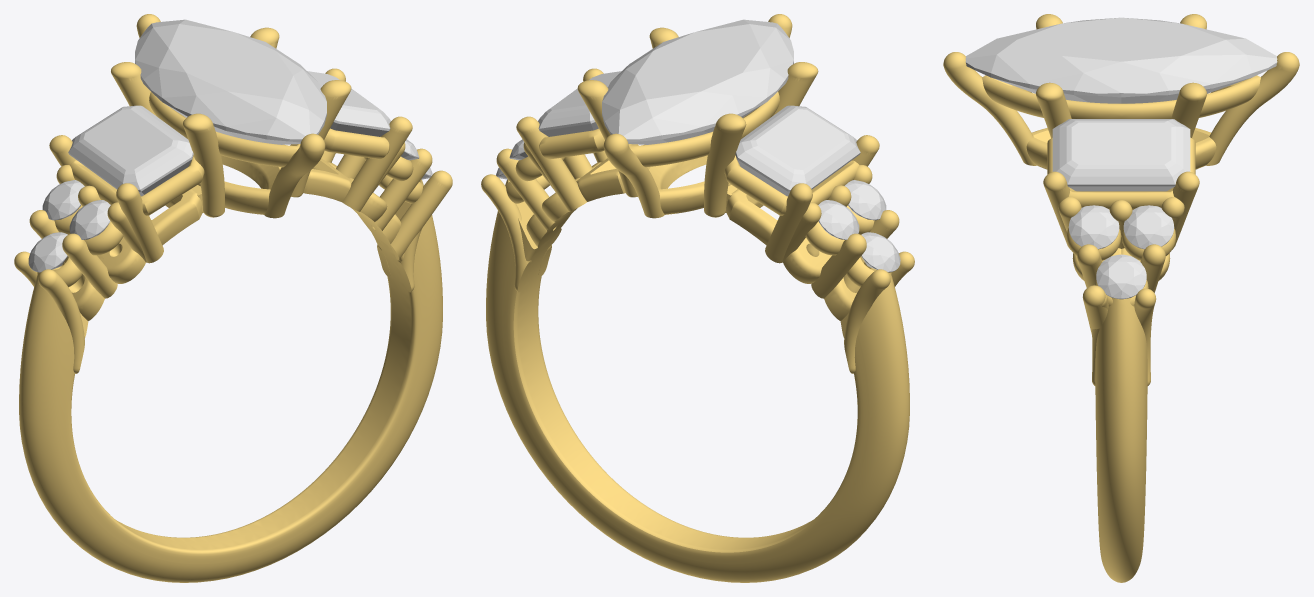
File: JackV3new_blender.glb
3 renders of one model, left to right at view 1: azimuth 30°, elevation 25°; view 2: azimuth 150°, elevation 25°; view 3: azimuth 270°, elevation 25°, orthographic.
Parts seen in each view (by area): view 1: V3 Jack YG for 3d model, Jack dia center for 3d model, Jack dia em for 3d model.001, Jack dia em for 3d model, Jack dia rounds for 3d model.005, Jack dia rounds for 3d model.003, Jack dia rounds for 3d model.004; view 2: V3 Jack YG for 3d model, Jack dia center for 3d model, Jack dia em for 3d model.001, Jack dia em for 3d model, Jack dia rounds for 3d model.003, Jack dia rounds for 3d model.005, Jack dia rounds for 3d model.004; view 3: V3 Jack YG for 3d model, Jack dia center for 3d model, Jack dia em for 3d model, Jack dia rounds for 3d model.001, Jack dia rounds for 3d model, Jack dia rounds for 3d model.002.
Boxes of the visible parts, x1,y1,x2,y2 form: V3 Jack YG for 3d model: (14,14,452,582); Jack dia center for 3d model: (135,19,326,144); Jack dia em for 3d model.001: (68,105,193,196); Jack dia em for 3d model: (307,71,390,136); Jack dia rounds for 3d model.005: (69,200,110,239); Jack dia rounds for 3d model.003: (42,180,84,220); Jack dia rounds for 3d model.004: (28,232,67,272); V3 Jack YG for 3d model: (481,14,914,582); Jack dia center for 3d model: (602,19,793,144); Jack dia em for 3d model.001: (735,105,860,196); Jack dia em for 3d model: (538,71,621,136); Jack dia rounds for 3d model.003: (818,200,859,239); Jack dia rounds for 3d model.005: (845,180,886,220); Jack dia rounds for 3d model.004: (861,232,900,272); V3 Jack YG for 3d model: (943,14,1299,582); Jack dia center for 3d model: (965,17,1277,103); Jack dia em for 3d model: (1052,119,1190,191); Jack dia rounds for 3d model.001: (1096,254,1146,299); Jack dia rounds for 3d model: (1123,205,1174,249); Jack dia rounds for 3d model.002: (1068,205,1119,249).
Bounding box in the file's own units: 21.34 × 24.98 × 15.51.
